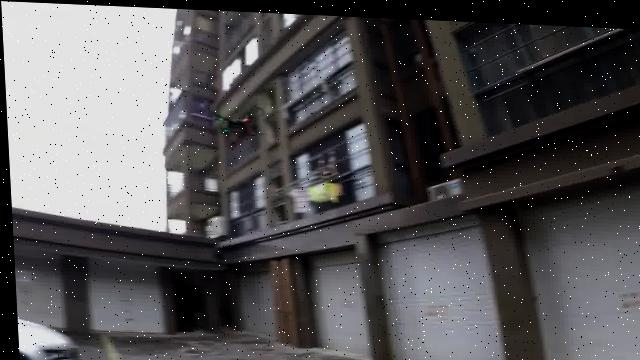drone: (203, 97, 264, 135)
